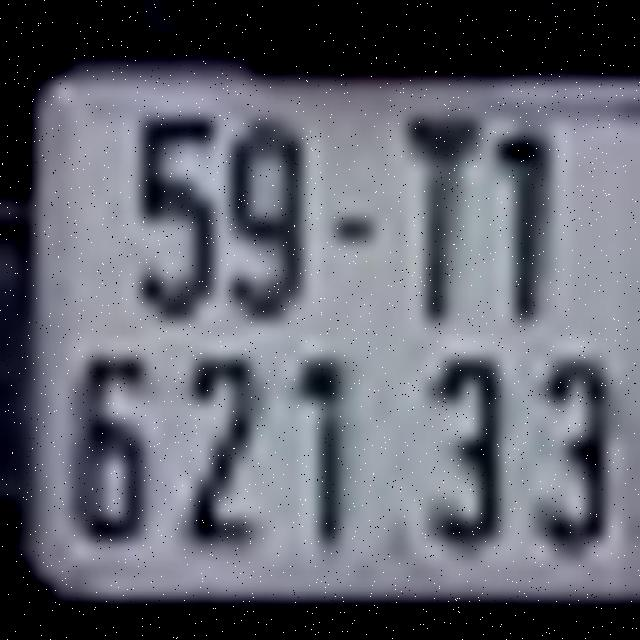1: (492, 121, 557, 324), (290, 350, 349, 548)
2: (185, 350, 262, 545)
3: (423, 348, 504, 548), (535, 351, 611, 554)
5: (133, 110, 220, 322)
6: (74, 351, 150, 542)
9: (226, 114, 307, 323)
T: (402, 114, 482, 322)
